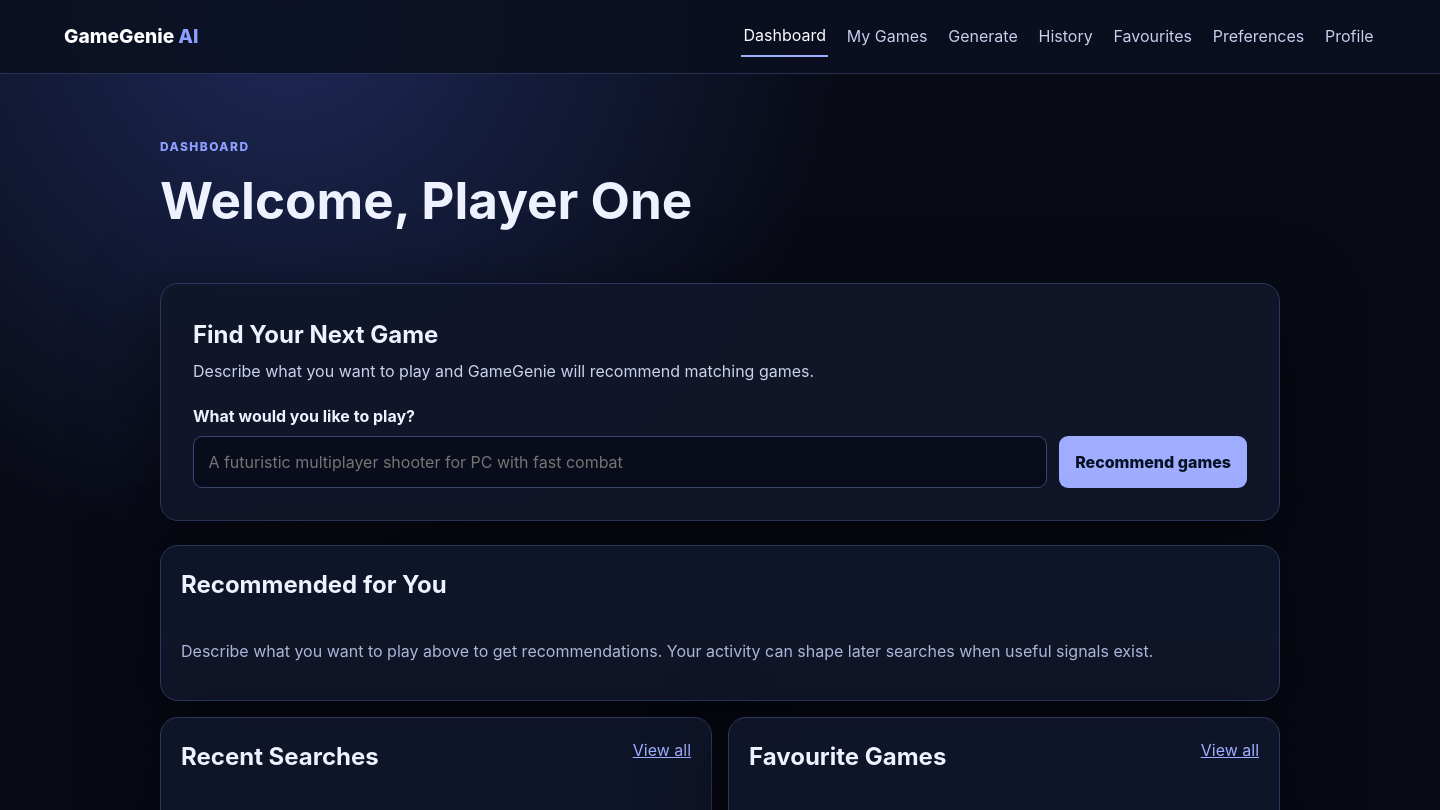
Test case: user activity UI › shows the shared network error when dashboard search cannot reach the backend
In the search field labelled "What would you like to play?": point(620, 462) [193,436,1047,488], type "multiplayer shooter"
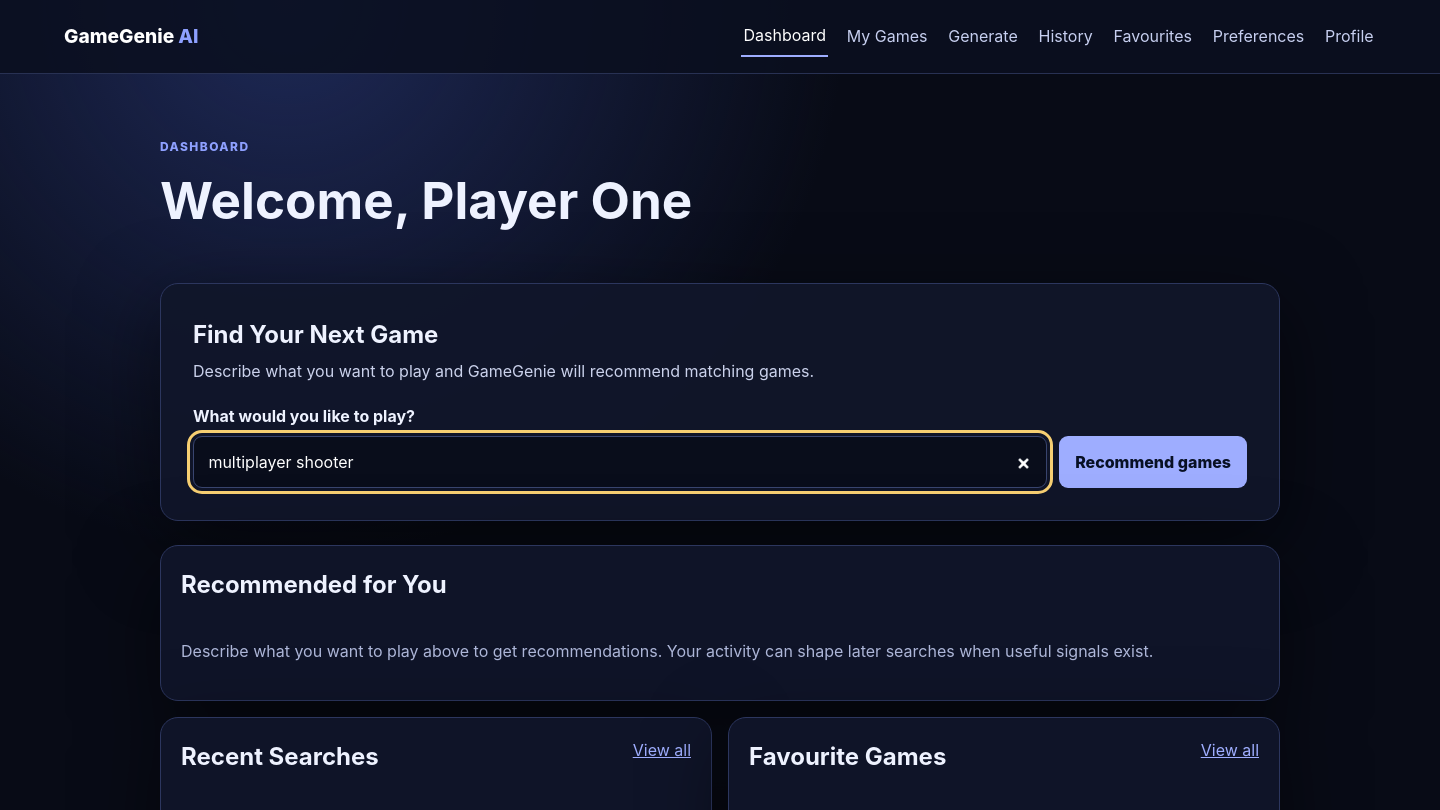
Click the button "Recommend games": point(1153, 462) [1059,436,1247,488]
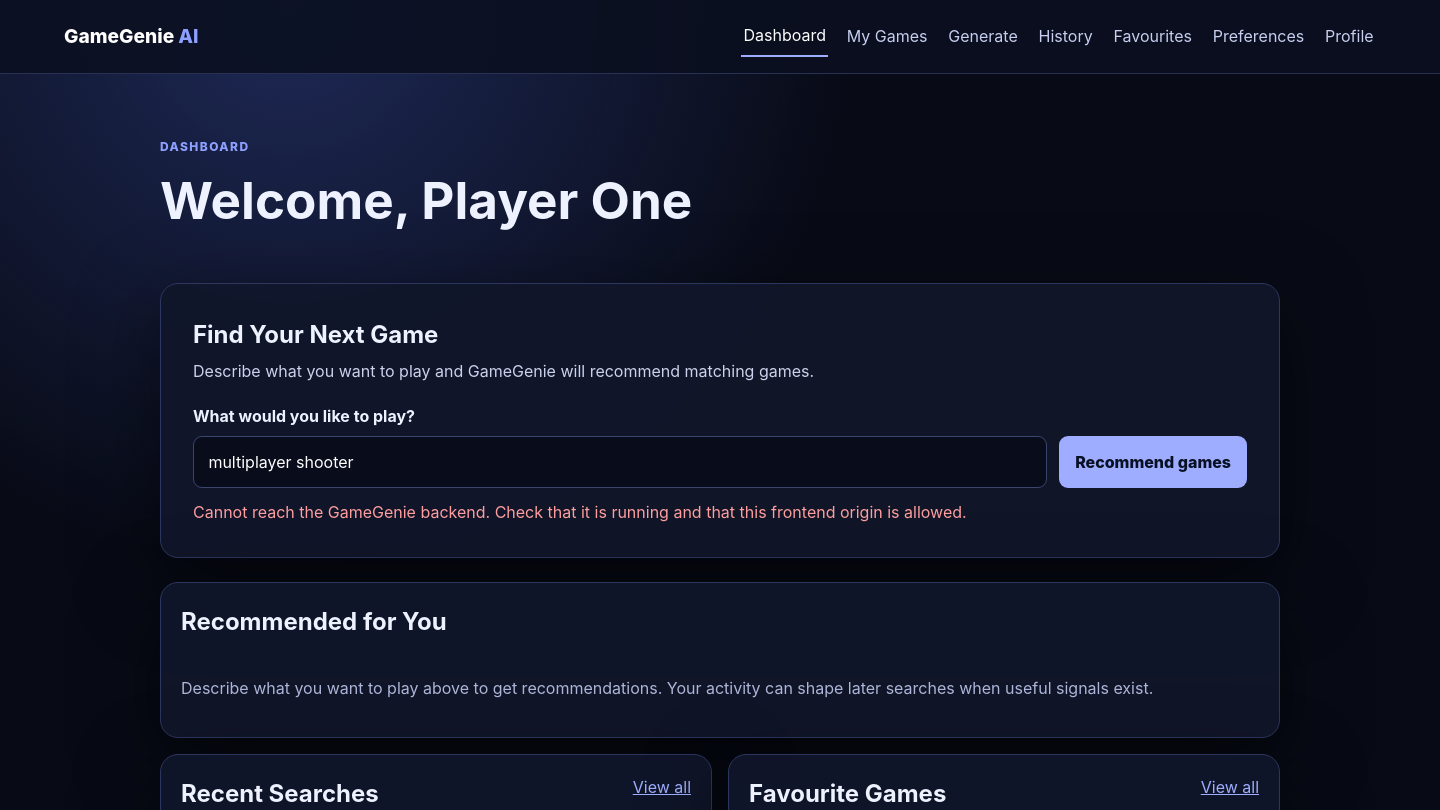
Check: the message shows "Cannot reach the GameGenie backend", box [193,502,967,522]
